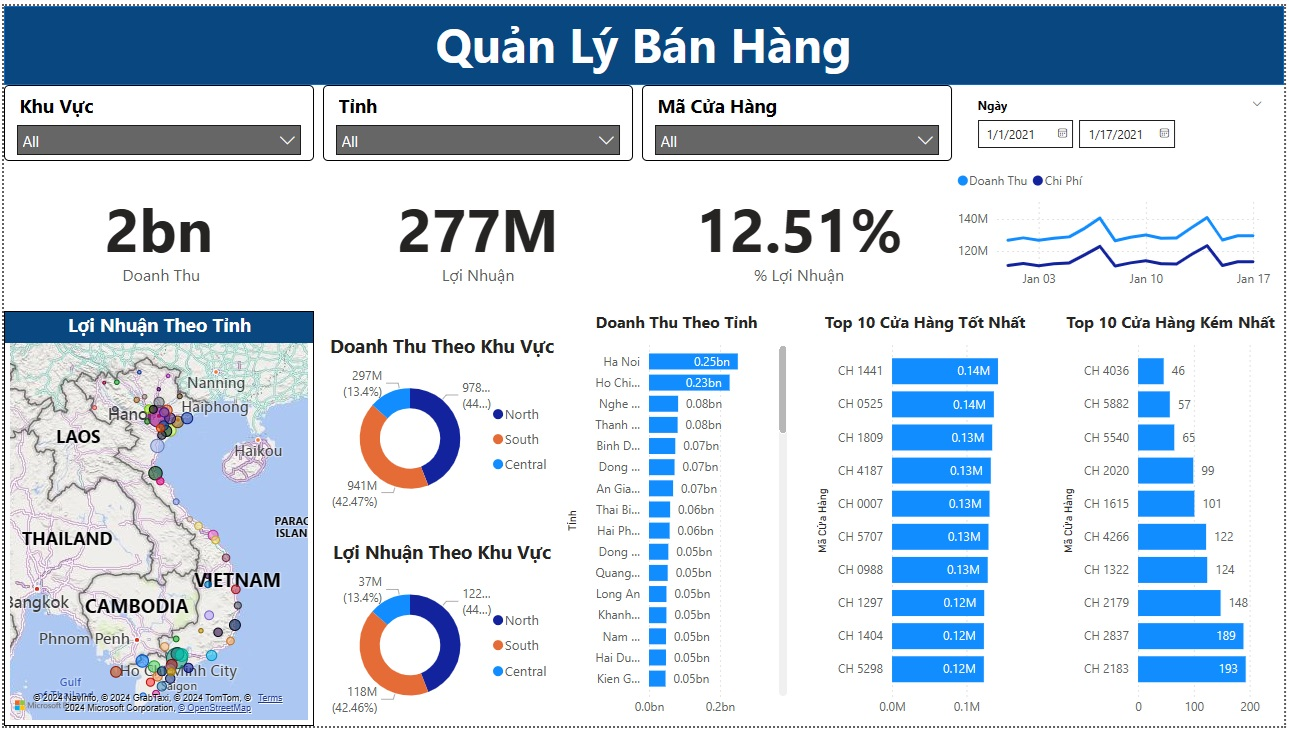

What the dashboard file says about the page in this screenshot:
{"tool":"powerbi","page":{"name":"Quản Lý Bán Hàng","canvas":[1280,720],"ordinal":0},"visuals":[{"type":"shape","box":[0,0,1280,78.8],"z":0},{"type":"textbox","box":[0,0,1280,78.9],"z":1000},{"type":"slicer","fields":{"Values":["DS Tinh.Khu Vực"]},"box":[0,79.1,310,76.4],"z":2000},{"type":"slicer","fields":{"Values":["DS Tinh.Tỉnh"]},"box":[318.9,78.8,310,76.2],"z":3000},{"type":"slicer","fields":{"Values":["DS Cua Hang.Mã Cửa Hàng"]},"box":[637.7,78.8,310,76.2],"z":4000},{"type":"slicer","fields":{"Values":["Ket Qua KD.Ngày"]},"box":[961.2,86.2,310,62.5],"z":5000},{"type":"card","fields":{"Values":["Sum(Ket Qua KD.Doanh Thu)"]},"box":[0,163,310,135],"z":6000},{"type":"card","fields":{"Values":["Sum(Ket Qua KD.Lợi Nhuận)"]},"box":[319,163,310,135],"z":7000},{"type":"card","fields":{"Values":["DS Cua Hang.% Lợi Nhuận"]},"box":[640,163,310,135],"z":8000},{"type":"lineChart","fields":{"Y":["Sum(Ket Qua KD.Doanh Thu)","Sum(Ket Qua KD.Chi Phí)"],"Category":["Ket Qua KD.Ngày"]},"box":[948,155,323,136],"z":9000},{"type":"map","title":"Lợi Nhuận Theo Tỉnh ","fields":{"Series":["DS Tinh.Tỉnh"],"Y":["DS Tinh.latitude"],"X":["DS Tinh.longitude"],"Size":["Sum(Ket Qua KD.Lợi Nhuận)"]},"box":[0,305,310,415],"z":10000},{"type":"donutChart","title":"Doanh Thu Theo Khu Vực","fields":{"Category":["DS Tinh.Khu Vực"],"Y":["Sum(Ket Qua KD.Doanh Thu)"]},"box":[319,327,239,186],"z":11000},{"type":"donutChart","title":"Lợi Nhuận Theo Khu Vực","fields":{"Category":["DS Tinh.Khu Vực"],"Y":["Sum(Ket Qua KD.Lợi Nhuận)"]},"box":[319,533,239,187],"z":12000},{"type":"barChart","title":"Doanh Thu Theo Tỉnh","fields":{"Category":["DS Cua Hang.Tỉnh"],"Y":["Sum(Ket Qua KD.Doanh Thu)"]},"box":[558,305,230,414],"z":13000},{"type":"barChart","title":"Top 10 Cửa Hàng Tốt Nhất","fields":{"Category":["DS Cua Hang.Mã Cửa Hàng"],"Y":["Sum(Ket Qua KD.Lợi Nhuận)"]},"box":[807.5,305,227,414],"z":14000},{"type":"barChart","title":"Top 10 Cửa Hàng Kém Nhất","fields":{"Category":["DS Cua Hang.Mã Cửa Hàng"],"Y":["Sum(Ket Qua KD.Lợi Nhuận)"]},"box":[1054,305,226,414],"z":15000}]}

Visuals, with their boxes in screenshot pixels (x1, y1, x2, y2), scaled from the page's 1280x720 canvas onto the 1289x732 screenshot:
shape: {"left": 0, "top": 0, "right": 1288, "bottom": 80}
textbox: {"left": 0, "top": 0, "right": 1288, "bottom": 80}
slicer - DS Tinh.Khu Vực: {"left": 0, "top": 80, "right": 312, "bottom": 158}
slicer - DS Tinh.Tỉnh: {"left": 321, "top": 80, "right": 633, "bottom": 158}
slicer - DS Cua Hang.Mã Cửa Hàng: {"left": 642, "top": 80, "right": 954, "bottom": 158}
slicer - Ket Qua KD.Ngày: {"left": 968, "top": 88, "right": 1280, "bottom": 151}
card - Sum(Ket Qua KD.Doanh Thu): {"left": 0, "top": 166, "right": 312, "bottom": 303}
card - Sum(Ket Qua KD.Lợi Nhuận): {"left": 321, "top": 166, "right": 633, "bottom": 303}
card - DS Cua Hang.% Lợi Nhuận: {"left": 644, "top": 166, "right": 957, "bottom": 303}
lineChart - Sum(Ket Qua KD.Doanh Thu) x Sum(Ket Qua KD.Chi Phí): {"left": 955, "top": 158, "right": 1280, "bottom": 296}
"Lợi Nhuận Theo Tỉnh " map: {"left": 0, "top": 310, "right": 312, "bottom": 731}
"Doanh Thu Theo Khu Vực" donutChart: {"left": 321, "top": 332, "right": 562, "bottom": 522}
"Lợi Nhuận Theo Khu Vực" donutChart: {"left": 321, "top": 542, "right": 562, "bottom": 731}
"Doanh Thu Theo Tỉnh" barChart: {"left": 562, "top": 310, "right": 794, "bottom": 731}
"Top 10 Cửa Hàng Tốt Nhất" barChart: {"left": 813, "top": 310, "right": 1042, "bottom": 731}
"Top 10 Cửa Hàng Kém Nhất" barChart: {"left": 1061, "top": 310, "right": 1288, "bottom": 731}
